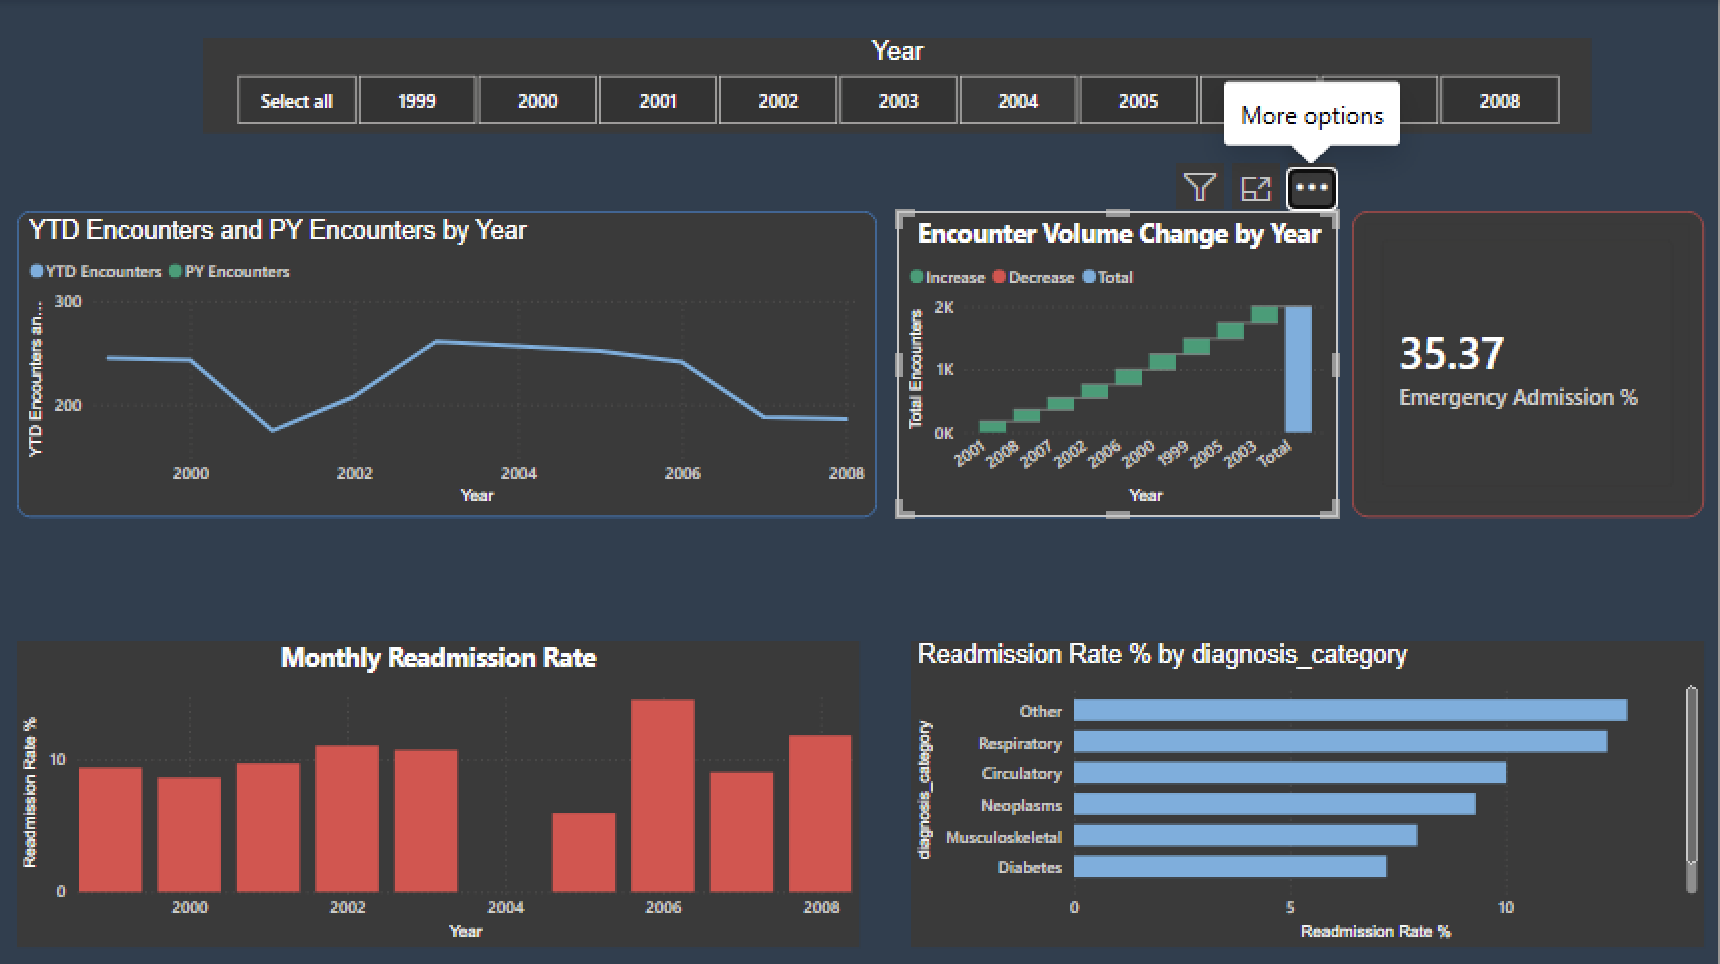

The dashboard page shown, as its layout file describes it:
{"tool":"powerbi","page":{"name":"Performance Monitoring","canvas":[1280,720],"ordinal":2},"visuals":[{"type":"lineChart","fields":{"Category":["dim_date.Year"],"Y":["_Measures.YTD Encounters","_Measures.PY Encounters"]},"box":[13.4,157.8,640,227.7],"z":1},{"type":"clusteredColumnChart","title":"Monthly Readmission Rate","fields":{"Category":["dim_date.Year"],"Y":["_Measures.Readmission Rate %"]},"box":[13.4,477.8,626.6,227.7],"z":2},{"type":"clusteredBarChart","fields":{"Category":["diabetic_data.diagnosis_category"],"Y":["_Measures.Readmission Rate %"]},"box":[678.7,477.8,590.9,227.7],"z":3},{"type":"cardVisual","fields":{"Data":["_Measures.Emergency Admission %"]},"box":[1007.6,157.8,262,227.7],"z":4},{"type":"waterfallChart","title":"Encounter Volume Change by Year","fields":{"Category":["dim_date.Year"],"Y":["_Measures.Total Encounters"]},"box":[668.3,157.8,328.9,227.7],"z":5},{"type":"slicer","title":"Year","fields":{"Values":["dim_date.Year"]},"box":[152.1,28.4,1033.8,71.5],"z":6}]}

Visuals, with their boxes in screenshot pixels (x1, y1, x2, y2), scaled from the page's 1280x720 canvas onto the 1720x964 screenshot:
lineChart - dim_date.Year x _Measures.YTD Encounters: x1=18 y1=211 x2=878 y2=516
"Monthly Readmission Rate" clusteredColumnChart: x1=18 y1=640 x2=860 y2=945
clusteredBarChart - diabetic_data.diagnosis_category x _Measures.Readmission Rate %: x1=912 y1=640 x2=1706 y2=945
cardVisual - _Measures.Emergency Admission %: x1=1354 y1=211 x2=1706 y2=516
"Encounter Volume Change by Year" waterfallChart: x1=898 y1=211 x2=1340 y2=516
"Year" slicer: x1=204 y1=38 x2=1594 y2=134
